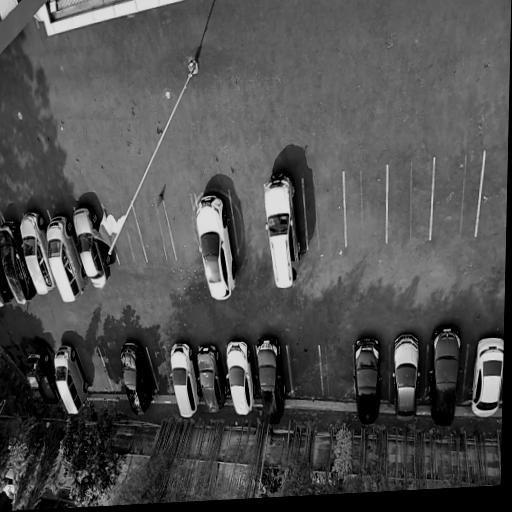Car: (192, 192, 239, 306), (261, 172, 304, 293), (426, 322, 464, 430), (70, 205, 115, 295), (46, 216, 91, 305), (18, 210, 58, 298), (0, 219, 39, 308), (254, 336, 290, 429), (118, 341, 158, 421), (467, 337, 504, 421), (167, 341, 205, 422), (391, 332, 421, 428), (54, 345, 93, 418), (225, 340, 260, 421), (353, 335, 383, 428), (194, 344, 230, 418), (26, 347, 61, 414), (0, 255, 15, 309)
Space Available: (431, 154, 485, 242), (387, 157, 432, 245), (345, 166, 388, 253), (303, 178, 346, 255), (229, 188, 269, 258), (133, 204, 176, 266), (477, 150, 508, 235), (162, 199, 202, 264), (114, 204, 148, 271), (319, 346, 355, 398), (287, 346, 323, 397), (76, 349, 113, 394), (147, 348, 174, 393), (98, 349, 126, 392)
